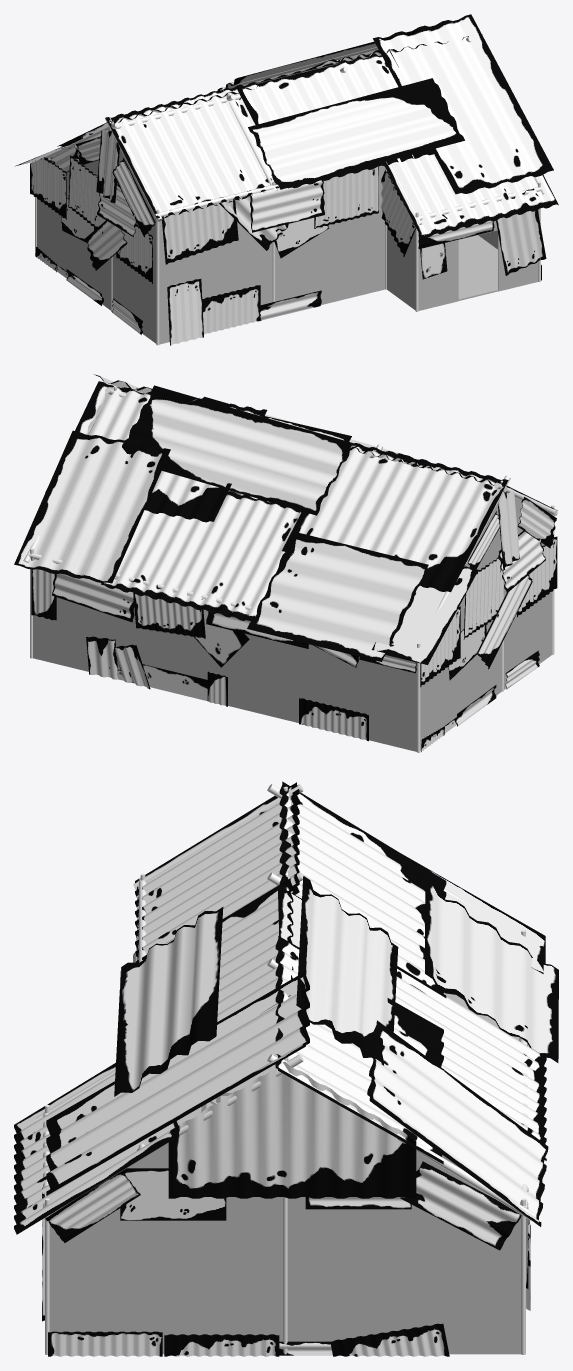
File: Shack3.FBX
3 renders of one model, top to bottom at view 1: azimuth 30°, elevation 25°; view 2: azimuth 150°, elevation 25°; view 3: azimuth 270°, elevation 25°, orthographic. The views are drawn at different scales.
Parts seen in each view (by area): view 1: Shack3; view 2: Shack3; view 3: Shack3.
Part boxes in pixels (x1,y1,x2,y2): Shack3: (15,14,558,345); Shack3: (14,374,557,752); Shack3: (14,781,558,1356).
Size of what is drawn, in the model's own units: 516 by 404 by 262.
